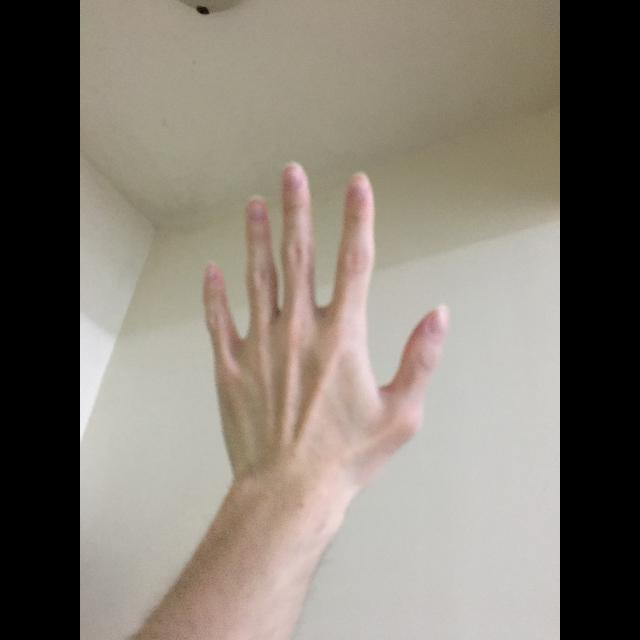bare_hand: (201, 158, 454, 481)
